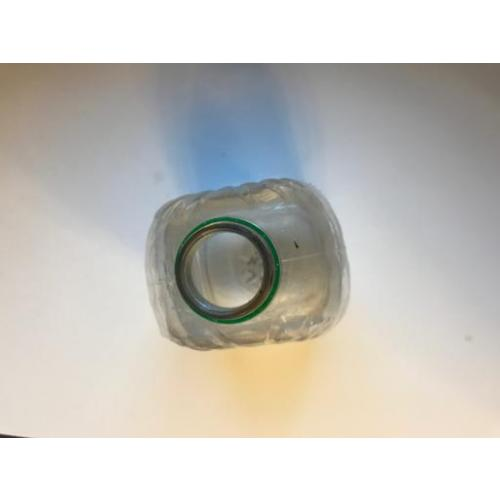plastic: (146, 177, 346, 349)
